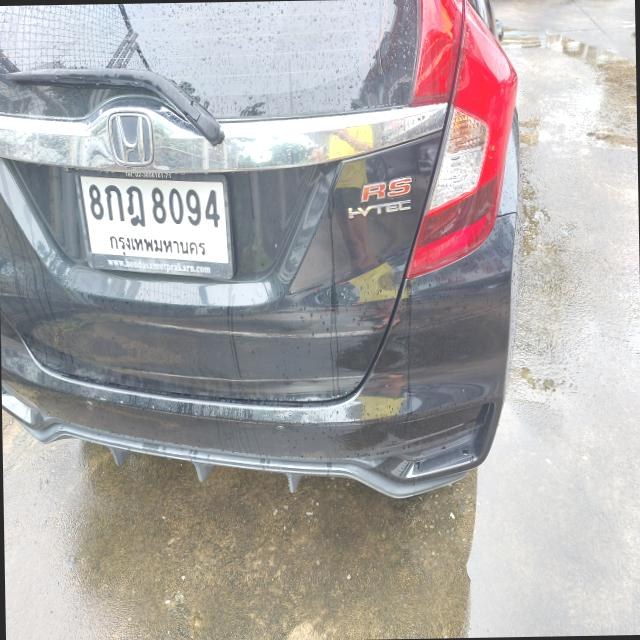license_plate: (73, 163, 235, 286)
